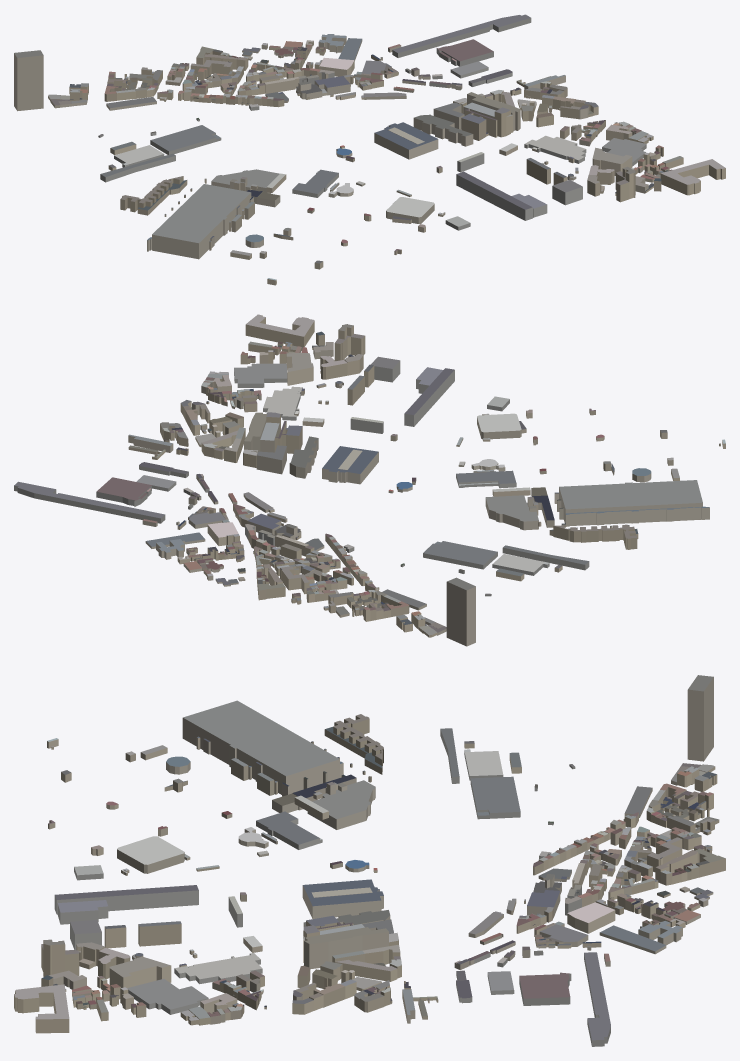
3 renders of one model, top to bottom at view 1: azimuth 30°, elevation 25°; view 2: azimuth 150°, elevation 25°; view 3: azimuth 270°, elevation 25°, orthographic. The views are drawn at different scales.
Parts seen in each view (by area): view 1: tuile; view 2: tuile; view 3: tuile.
Part boxes in pixels (x1,y1,x2,y2): tuile: (14, 14, 725, 285); tuile: (14, 314, 725, 646); tuile: (14, 675, 725, 1046).
Size of the model in its own units: 1193 by 121 by 1074.
